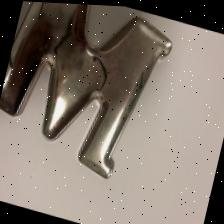metal: (0, 0, 187, 207)
